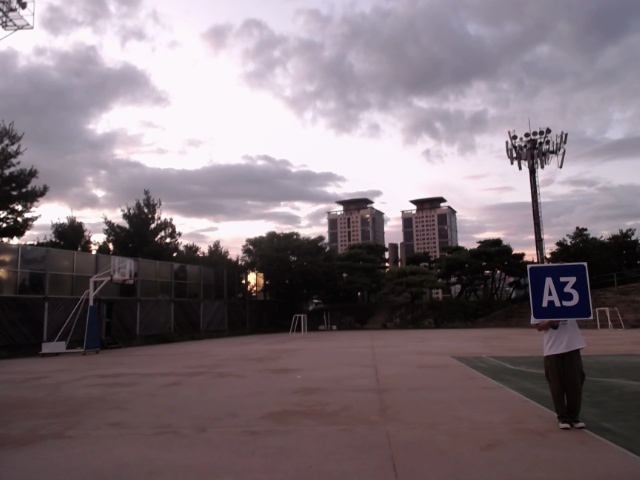delivery_a3: (530, 264, 594, 322)
